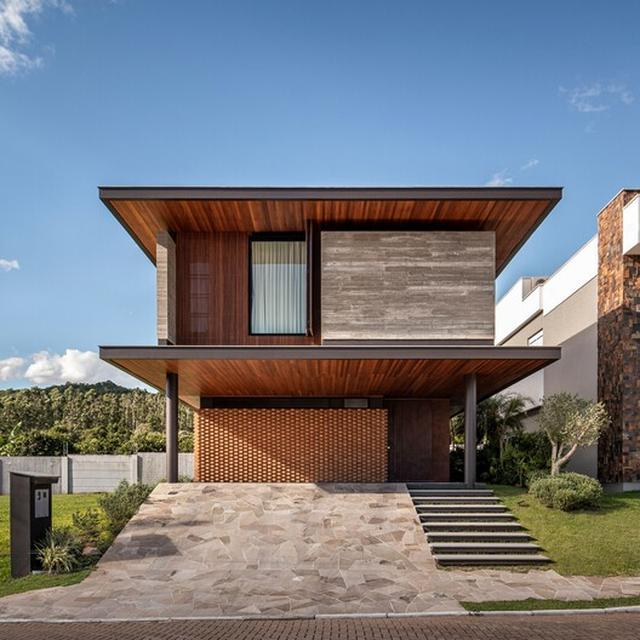building: (89, 164, 572, 496)
